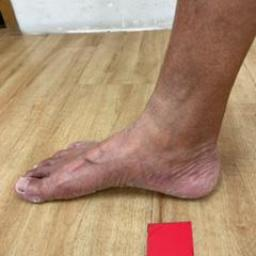Medial View -Right Foot-: (3, 74, 236, 223)
